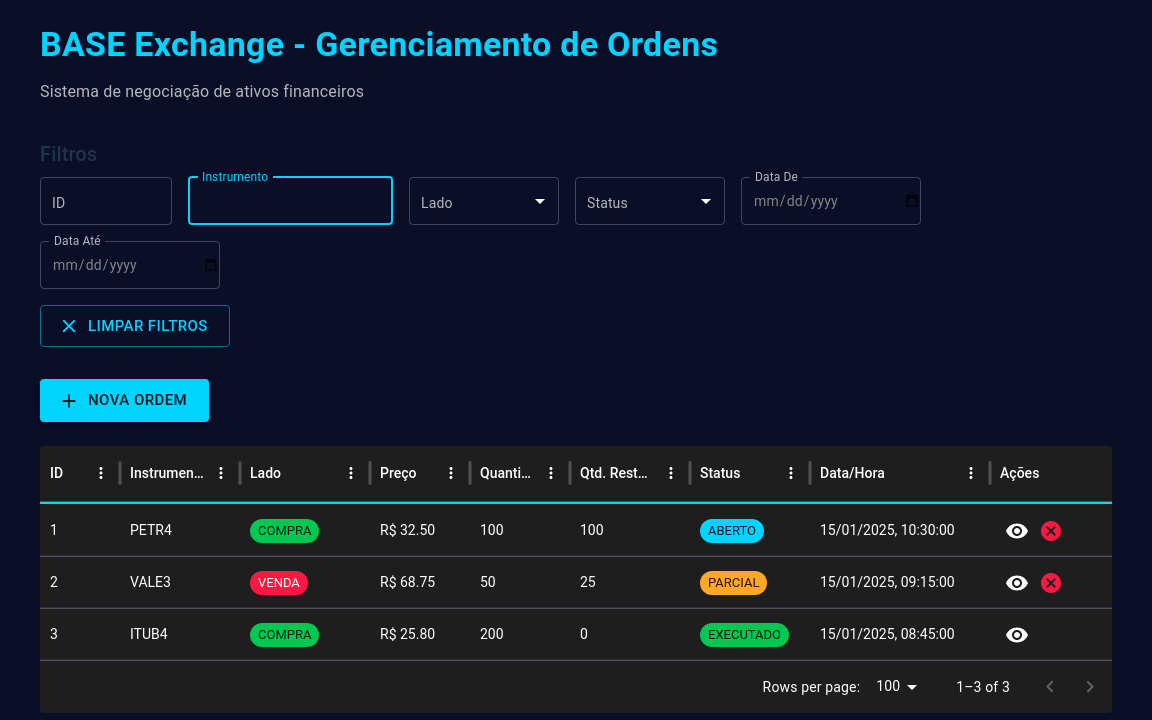
Test: OrderManagement - Filtros e Interações › filtra por ID corretamente
This screenshot has width=1152, height=720.
Type "2" into the field labelled "ID" at [106, 201], box 40,177 -> 172,225
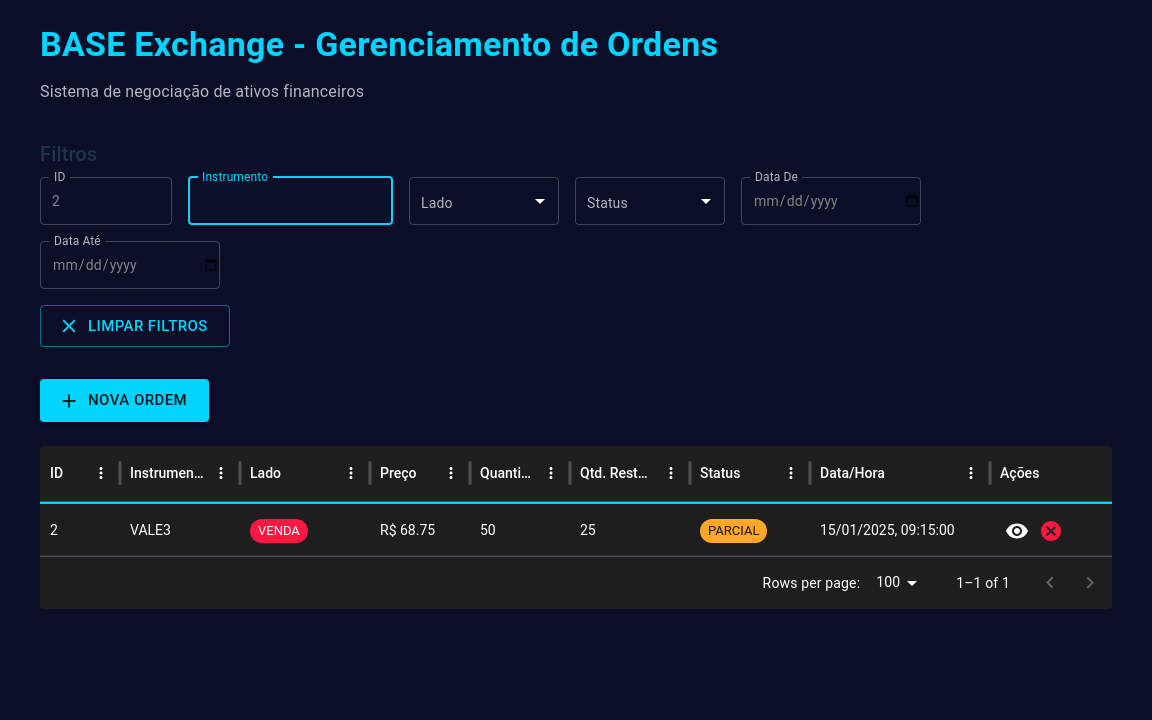
expect the number of rows is 2: met, box 40,446 -> 1112,502; 40,504 -> 1112,556
expect the text "PETR4" is gone: met
